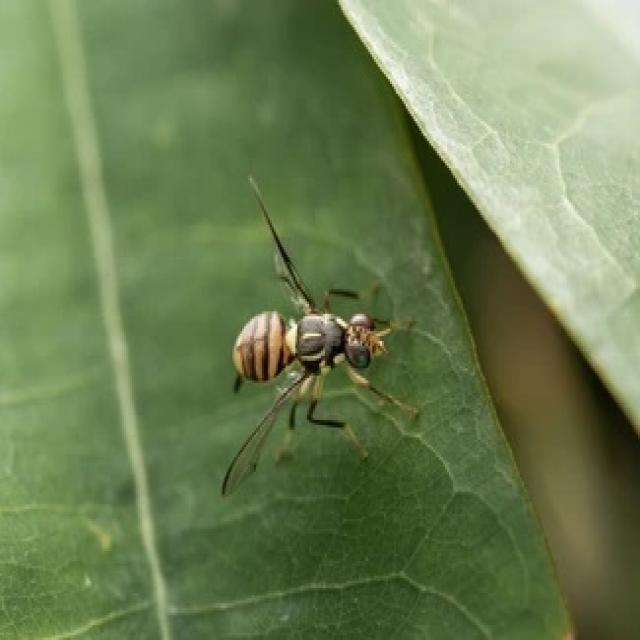Fruit fly: (221, 163, 431, 507)
